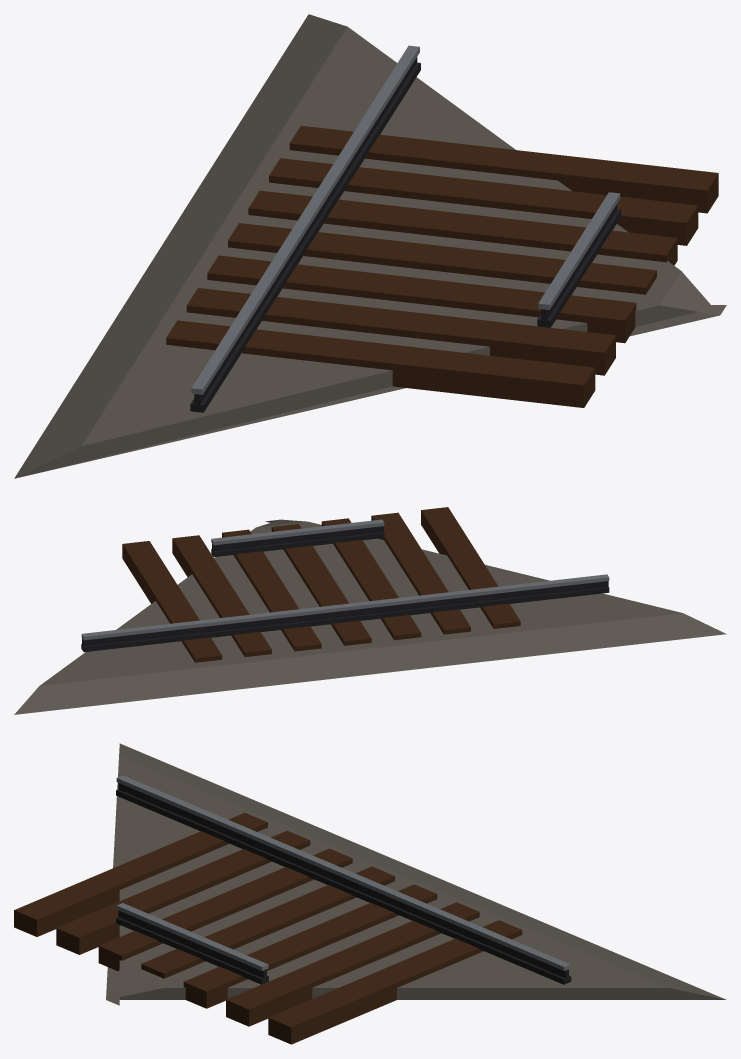
The model's file is SM_Rail_Diagonal.obj.
3 views of the same model, one above another, from view 1: azimuth 30°, elevation 25°; view 2: azimuth 150°, elevation 25°; view 3: azimuth 270°, elevation 25° (orthographic). The views are drawn at different scales.
Visible parts, largest first — view 1: SM_Rail_Diagonal; view 2: SM_Rail_Diagonal; view 3: SM_Rail_Diagonal.
Boxes of the visible parts, x1=… form: SM_Rail_Diagonal: x1=14, y1=14, x2=726, y2=478; SM_Rail_Diagonal: x1=14, y1=507, x2=726, y2=714; SM_Rail_Diagonal: x1=14, y1=743, x2=726, y2=1044.
Size of the model in its own units: 4.81 by 0.254 by 4.81.
